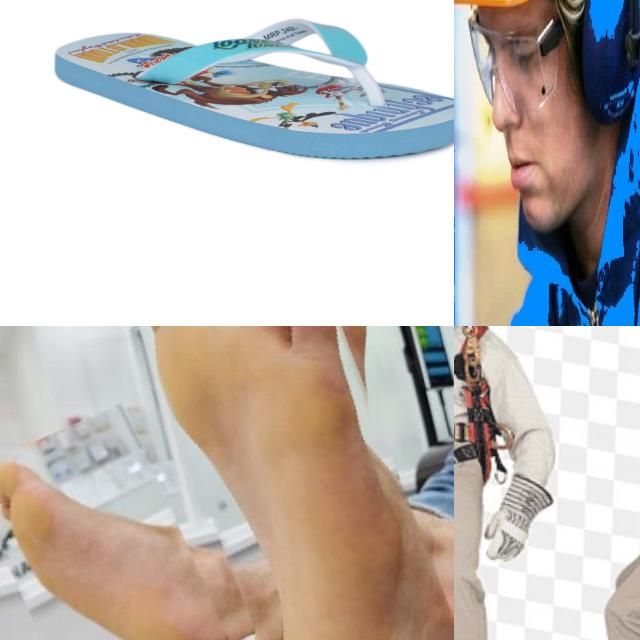Barefoots: (125, 326, 454, 640), (0, 400, 233, 640)
Ear-protection: (593, 0, 640, 156)
Harness: (454, 326, 500, 482)
Sandals: (51, 16, 454, 162)
head_helmet: (456, 4, 586, 118)
